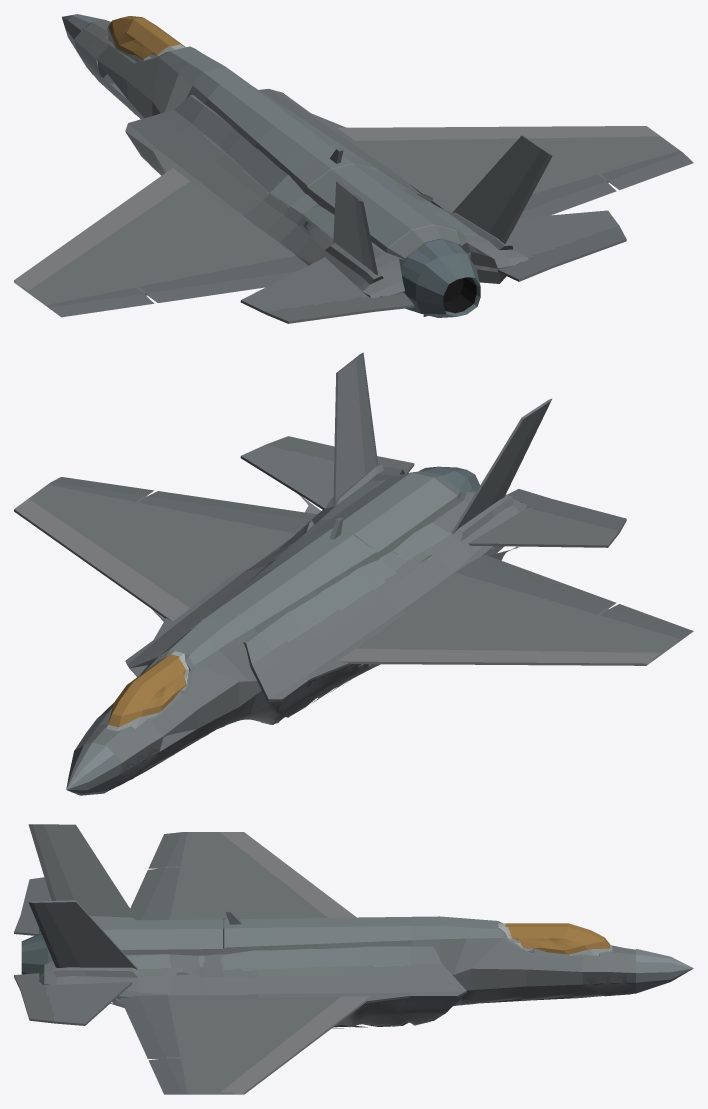
The picture shows the model from 3 angles, top to bottom: view 1: azimuth 30°, elevation 25°; view 2: azimuth 150°, elevation 25°; view 3: azimuth 270°, elevation 25°; orthographic projection. The views are drawn at different scales.
Visible parts, largest first — view 1: body, stab_L, stab_R, ail_L, ail_R, rud_R, rud_L; view 2: body, stab_L, stab_R, ail_L, ail_R, rud_R, rud_L; view 3: body, stab_R, rud_L, ail_R, ail_L, rud_R, stab_L.
Boxes of the visible parts, left/top/right/bottom form: body: left=14, top=14, right=693, bottom=317; stab_L: left=240, top=257, right=414, bottom=323; stab_R: left=498, top=210, right=626, bottom=281; ail_L: left=72, top=276, right=198, bottom=313; ail_R: left=559, top=157, right=673, bottom=202; rud_R: left=489, top=149, right=552, bottom=243; rud_L: left=354, top=195, right=377, bottom=274; body: left=14, top=359, right=693, bottom=795; stab_L: left=468, top=489, right=626, bottom=547; stab_R: left=240, top=436, right=414, bottom=509; ail_L: left=559, top=591, right=673, bottom=631; ail_R: left=72, top=480, right=197, bottom=512; rud_R: left=354, top=352, right=378, bottom=473; rud_L: left=491, top=398, right=552, bottom=505; body: left=21, top=824, right=693, bottom=1094; stab_R: left=14, top=973, right=132, bottom=1025; rud_L: left=28, top=824, right=74, bottom=900; ail_R: left=141, top=1041, right=183, bottom=1085; ail_L: left=141, top=841, right=183, bottom=884; rud_R: left=28, top=901, right=80, bottom=967; stab_L: left=14, top=877, right=51, bottom=935.
Bounding box in the file's own units: 14.24 × 3.67 × 15.7.
11 materials, 10 textured.
